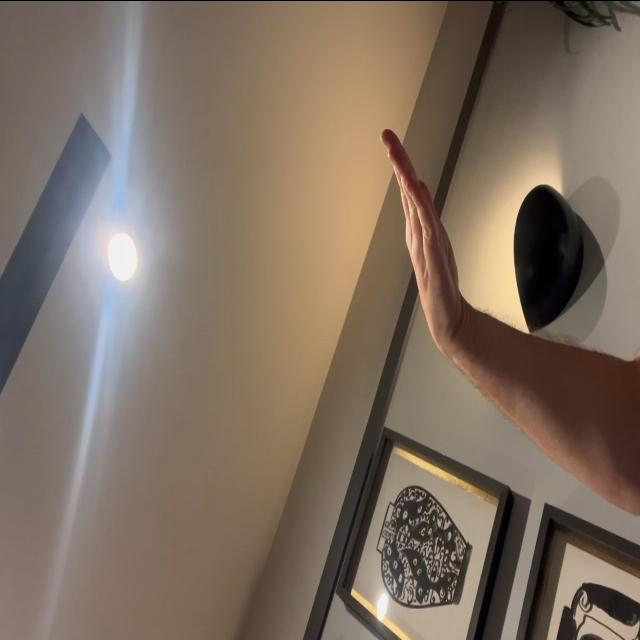Paper: (381, 128, 460, 348)
